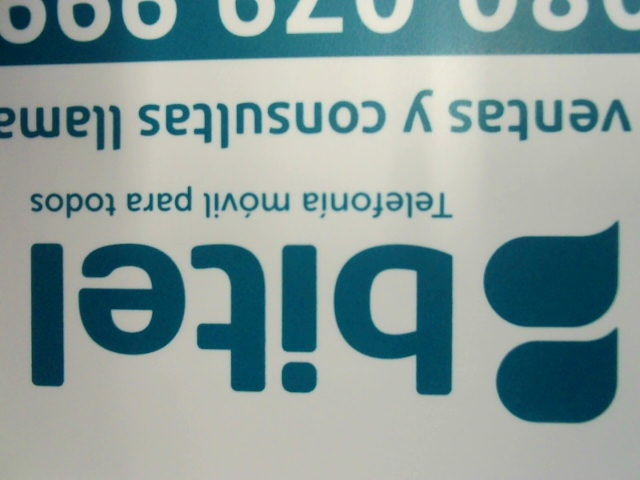BE_bitel: (13, 225, 626, 423)
